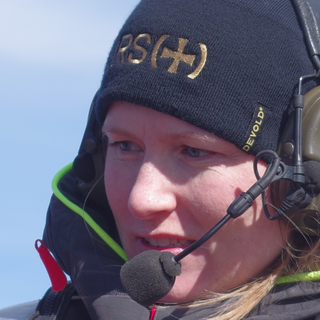eye: (108, 134, 148, 161), (171, 141, 216, 164)
